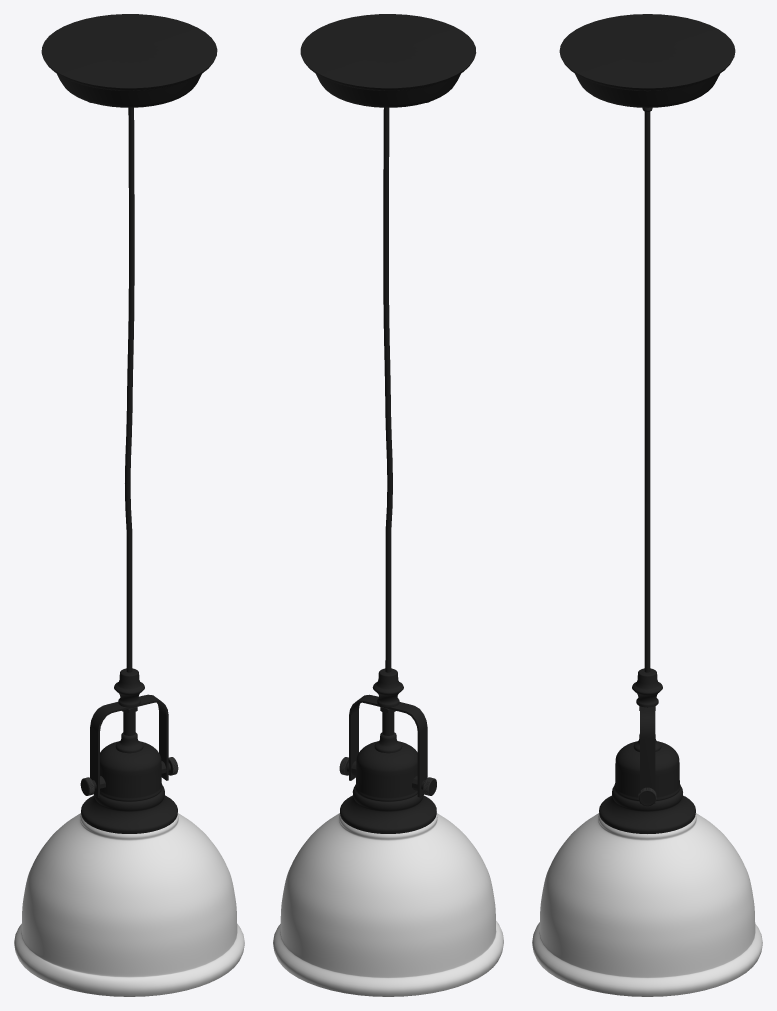
The model's file is lamp_B0719H3LG2.glb.
The picture shows the model from 3 angles, left to right: view 1: azimuth 30°, elevation 25°; view 2: azimuth 150°, elevation 25°; view 3: azimuth 270°, elevation 25°; orthographic projection.
Parts seen in each view (by area): view 1: RootNode; view 2: RootNode; view 3: RootNode.
Boxes of the visible parts, <box> form: RootNode: <box>14,14,244,996</box>; RootNode: <box>273,14,503,996</box>; RootNode: <box>532,14,762,996</box>.
Size of the model in its own units: 0.1727 by 0.7412 by 0.1727.
1 material, 1 textured.
